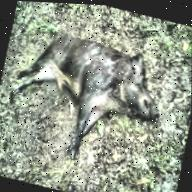boar: (8, 20, 178, 165)
